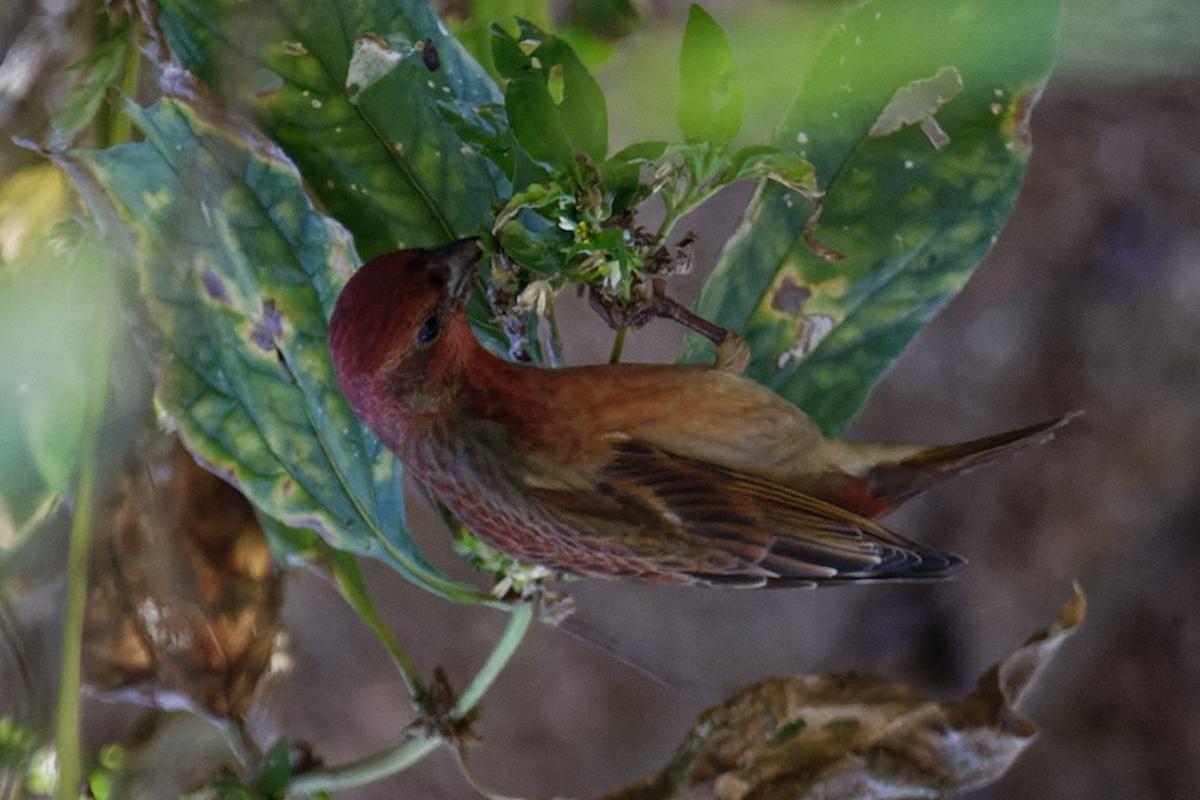rosefinch: (326, 196, 991, 604)
